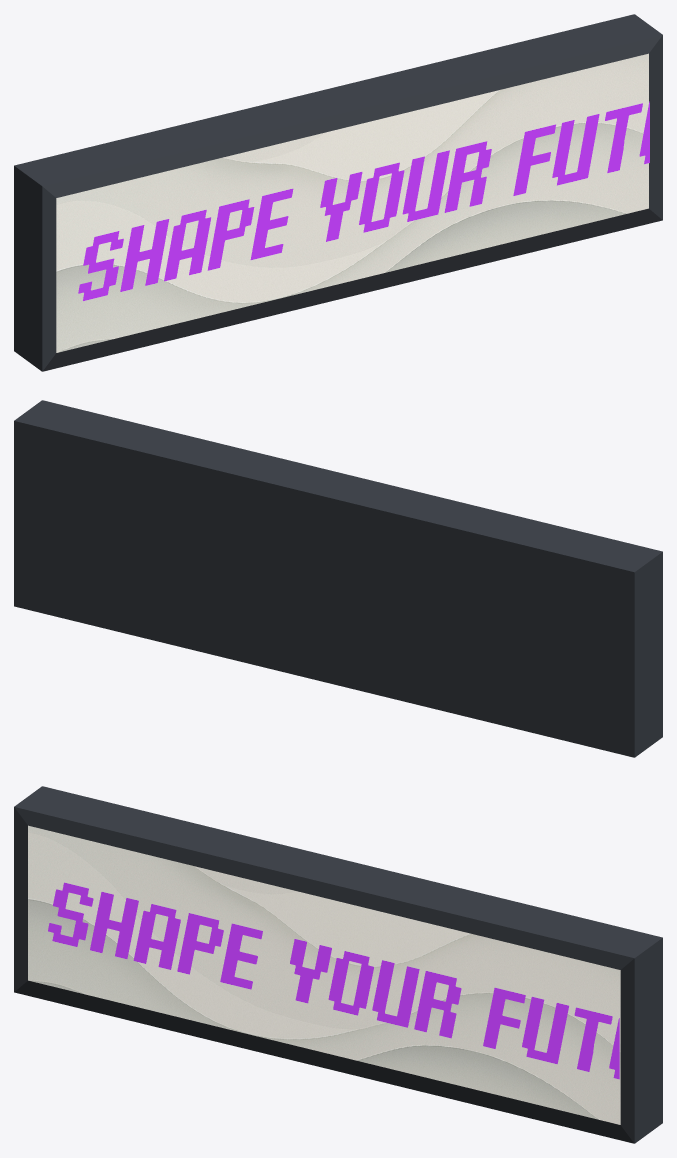
Rendered from faixa_4x1_04_pacote.glb.
The picture shows the model from 3 angles, top to bottom: view 1: azimuth 30°, elevation 25°; view 2: azimuth 150°, elevation 25°; view 3: azimuth 330°, elevation 25°; orthographic projection.
Parts seen in each view (by area): view 1: faixa_4x1_04_pacote, letreiro_rolante; view 2: faixa_4x1_04_pacote; view 3: faixa_4x1_04_pacote, letreiro_rolante.
Part boxes in pixels (<box>): faixa_4x1_04_pacote: <box>14,14,662,371</box>; letreiro_rolante: <box>78,101,649,301</box>; faixa_4x1_04_pacote: <box>14,400,662,757</box>; faixa_4x1_04_pacote: <box>14,786,662,1143</box>; letreiro_rolante: <box>48,882,619,1079</box>.
Bounding box in the file's own units: 9.62 × 2.75 × 0.7873.
Materials: 3 (3 with a texture image).
